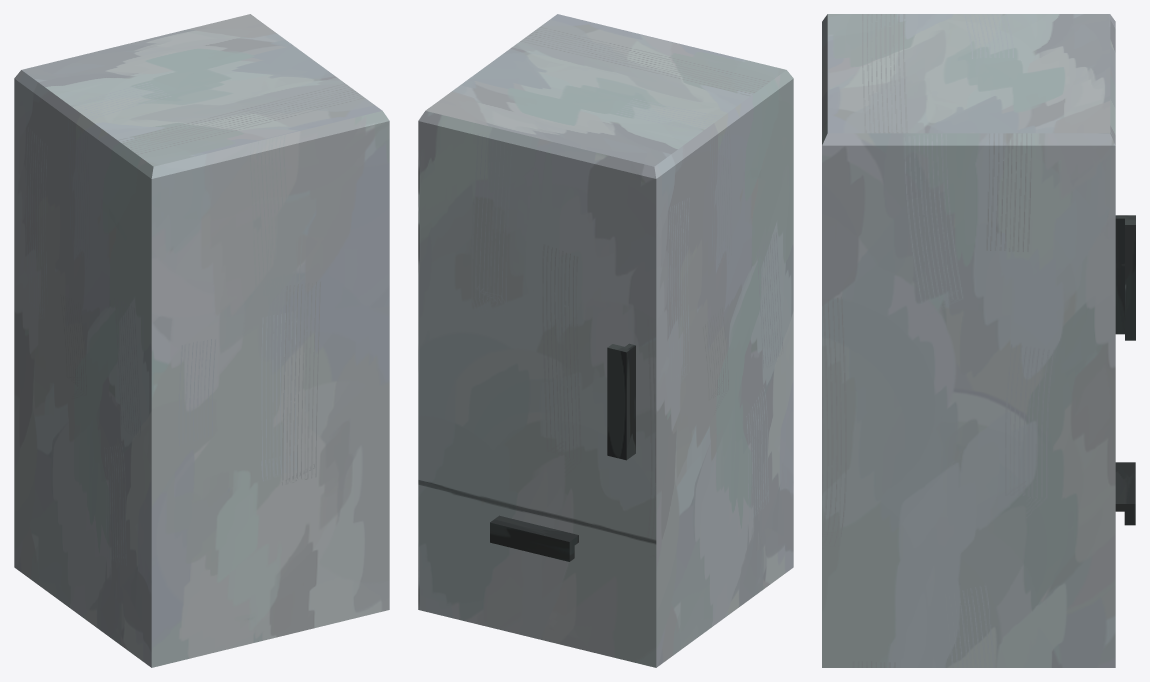
File: M-FridgeFin.fbx
3 views of the same model, side by side, from view 1: azimuth 30°, elevation 25°; view 2: azimuth 150°, elevation 25°; view 3: azimuth 270°, elevation 25° (orthographic). The views are drawn at different scales.
Parts seen in each view (by area): view 1: Cube.002; view 2: Cube.002; view 3: Cube.002.
Part boxes in pixels (<box>): Cube.002: <box>14,14,389,667</box>; Cube.002: <box>418,14,793,667</box>; Cube.002: <box>822,14,1135,667</box>.
Bounding box in the file's own units: 160 × 171 × 320.
1 material, 1 textured.
